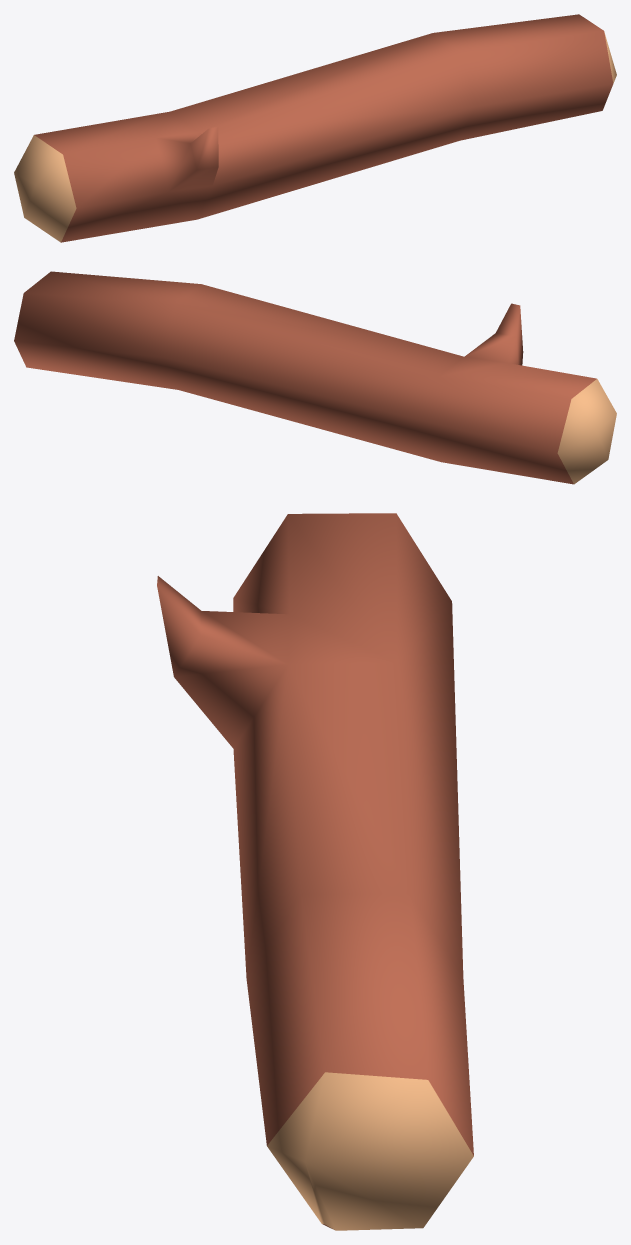
The model's file is trunk.fbx.
The picture shows the model from 3 angles, top to bottom: view 1: azimuth 30°, elevation 25°; view 2: azimuth 150°, elevation 25°; view 3: azimuth 270°, elevation 25°; orthographic projection. The views are drawn at different scales.
Parts seen in each view (by area): view 1: Branch; view 2: Branch; view 3: Branch.
Boxes of the visible parts, left/top/right/bottom form: Branch: left=14, top=14, right=616, bottom=242; Branch: left=14, top=271, right=616, bottom=484; Branch: left=157, top=513, right=473, bottom=1230.
Size of the model in its own units: 8795 by 1770 by 2122.
